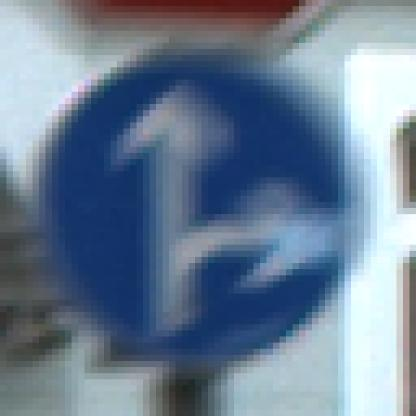Straight or Right: (34, 44, 385, 380)
